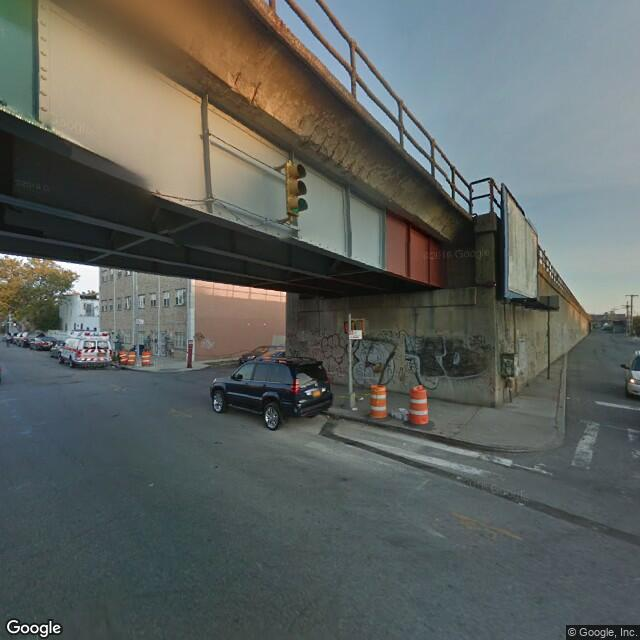litter: (398, 405, 409, 415), (351, 406, 367, 410), (358, 395, 366, 401)
